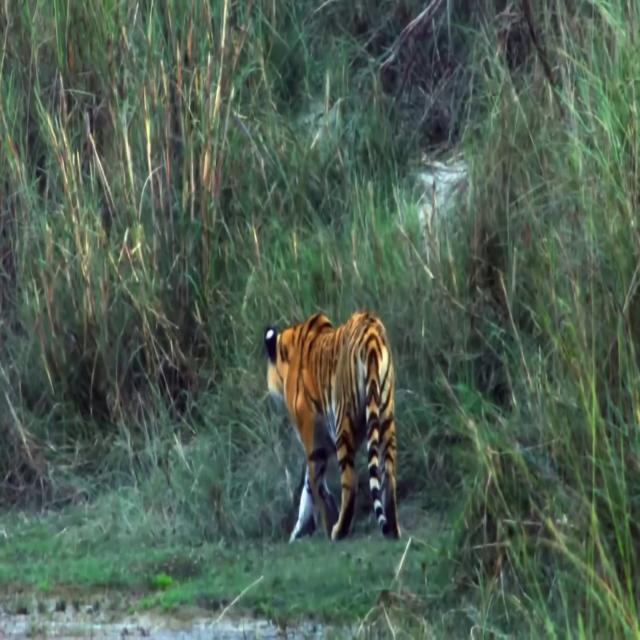tiger: (264, 308, 402, 541)
